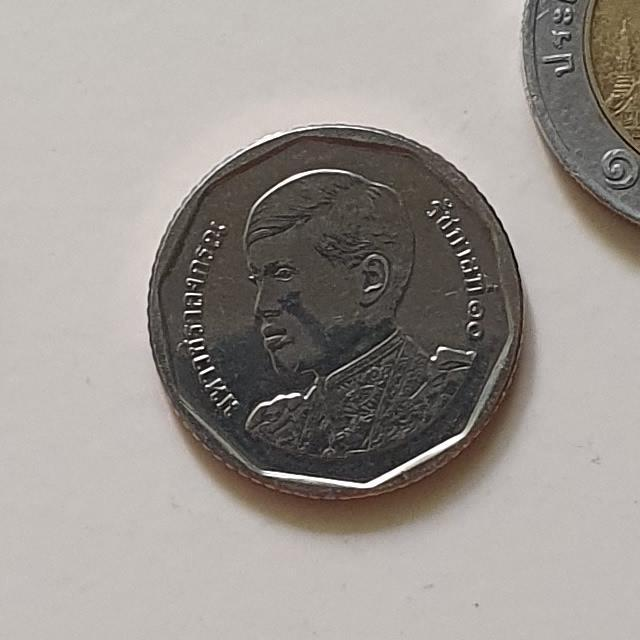10 Bath: (512, 1, 640, 231)
5 Bath: (144, 114, 530, 510)
